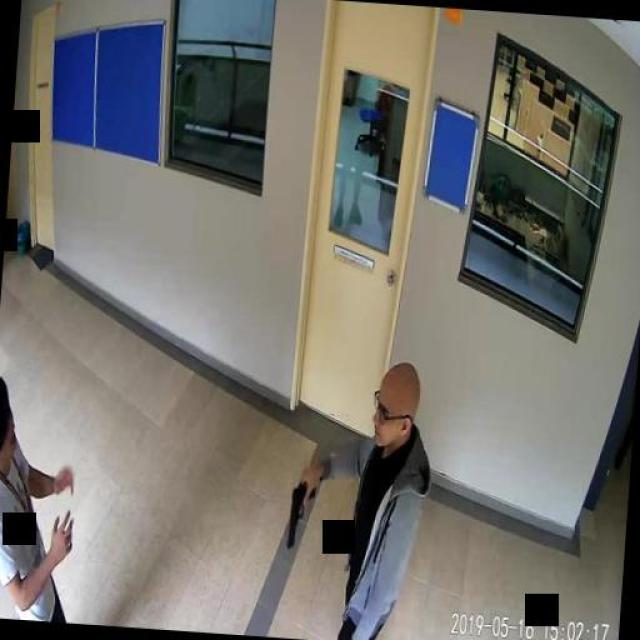gun: (285, 478, 316, 548)
